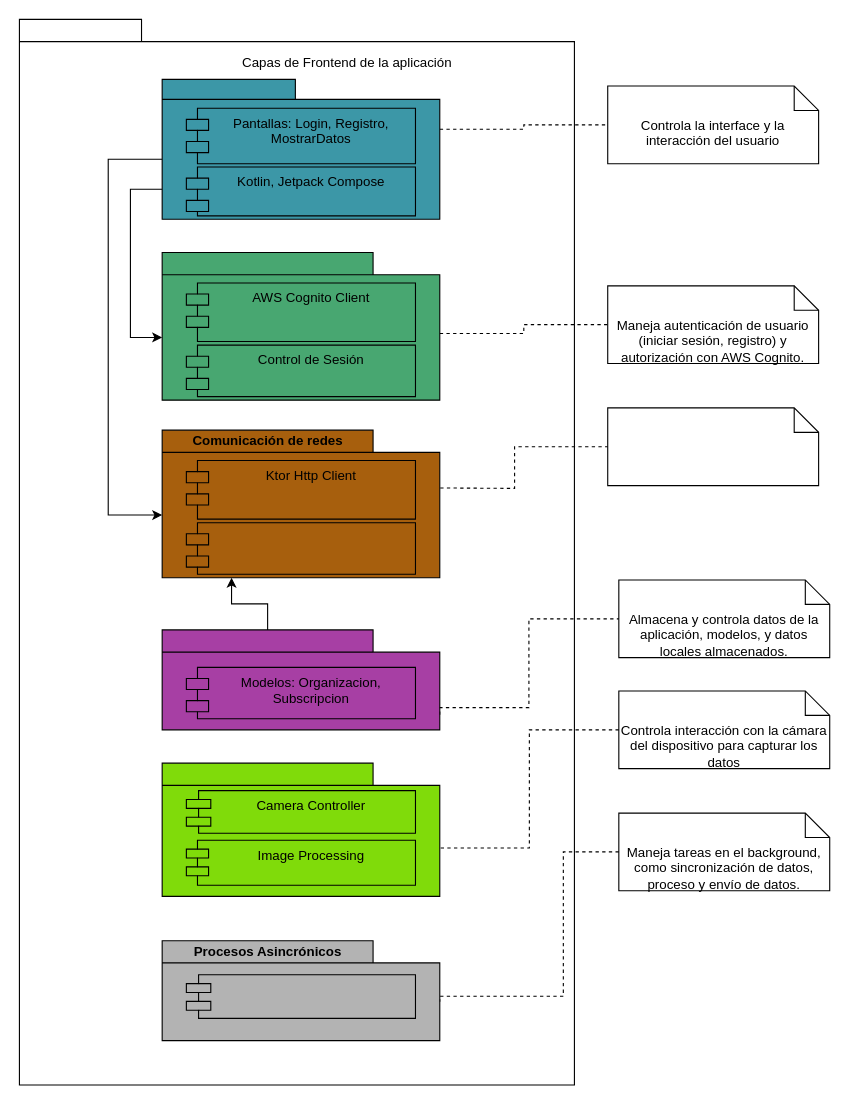
The diagram is 849 pixels wide and 1104 high, and some of its shapes have lost their labels. The box of each missing label's shape, as (x1, y1, x2, y2) in pixels:
Administra comunicación con servicios externos, como el Rest API: (607, 407, 819, 486)
API Requests to Django Client: (185, 522, 415, 574)
Autenticación y Autorización: (161, 251, 440, 400)
Camara: (161, 762, 440, 896)
Corutinas para tareas en el background: (185, 974, 415, 1018)
Modelos/Datos: (161, 629, 440, 730)
UI/Presentación: (161, 78, 440, 219)
